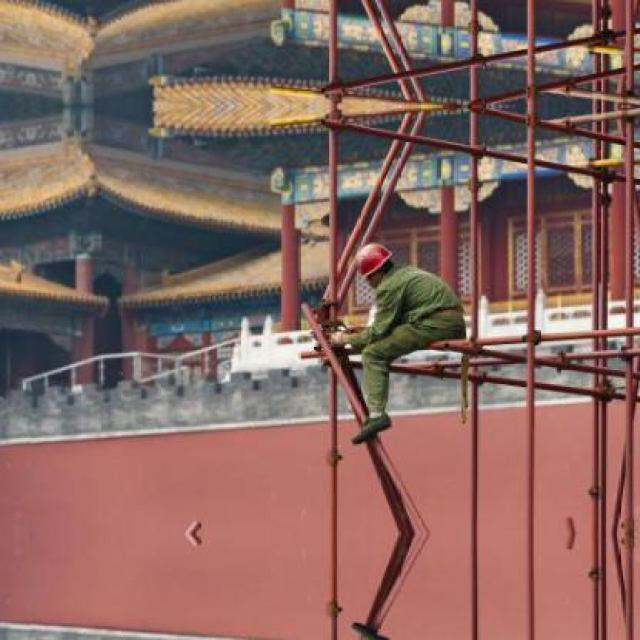boots: (351, 412, 392, 444)
gloves: (329, 330, 346, 346)
hard-hat: (355, 242, 392, 278)
person: (327, 241, 468, 445)
ppe-suit: (348, 262, 468, 418)
